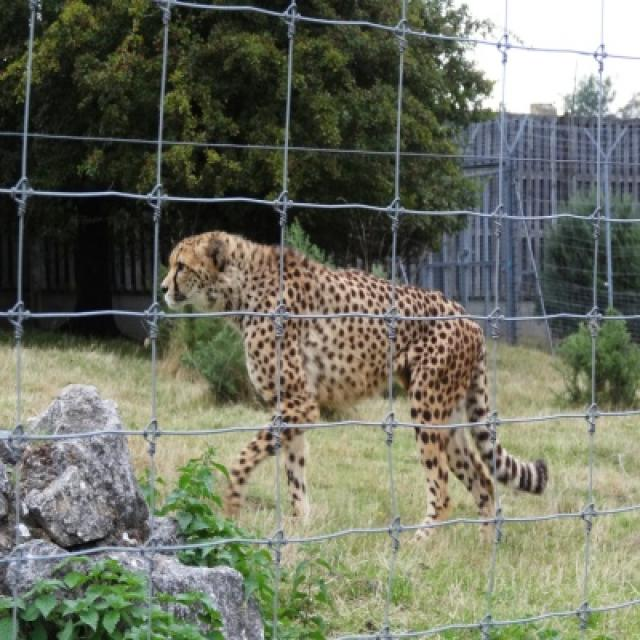Cheetah: (160, 232, 547, 526)
